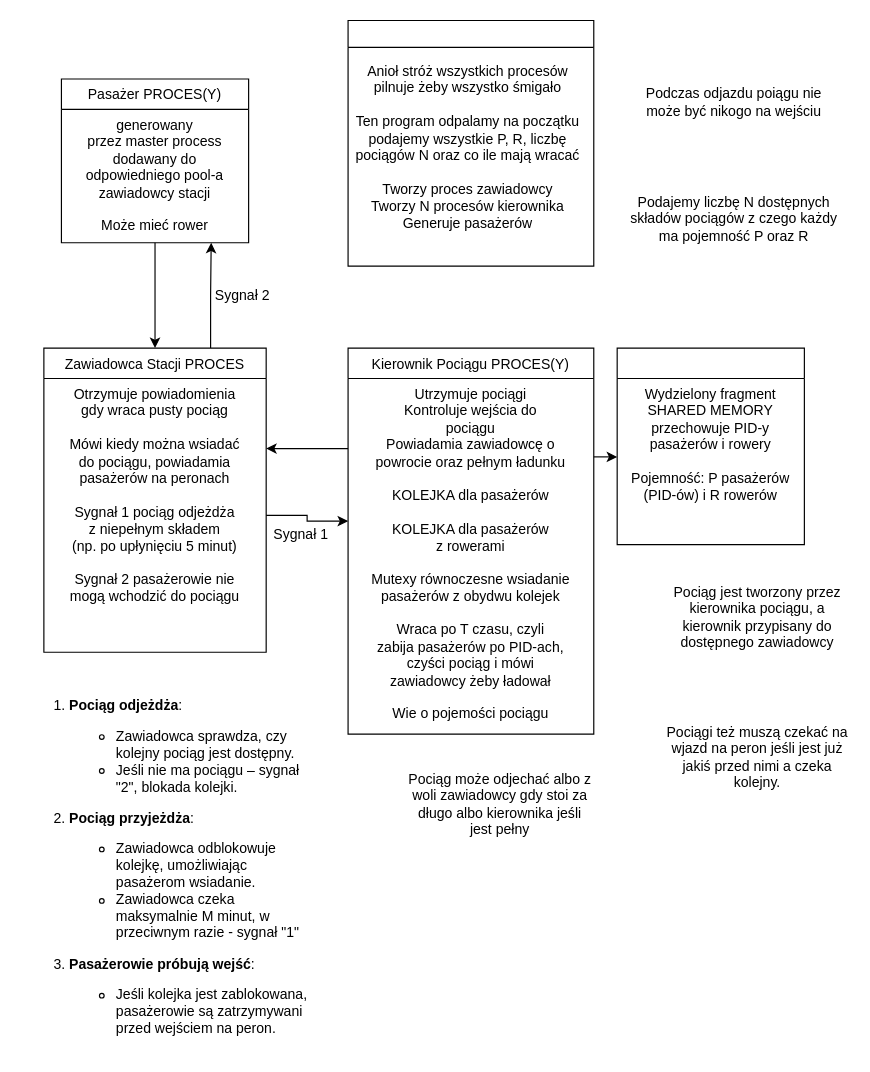
Some shapes in this 870 by 1072 pixel diagram are drawn without their labels. Here are the shapes that lost their labels. From the top down, the box of each, then its label:
(347, 19, 594, 266): Master Proces
(616, 347, 804, 545): Pociąg PAMIĘĆ DZIELONA
